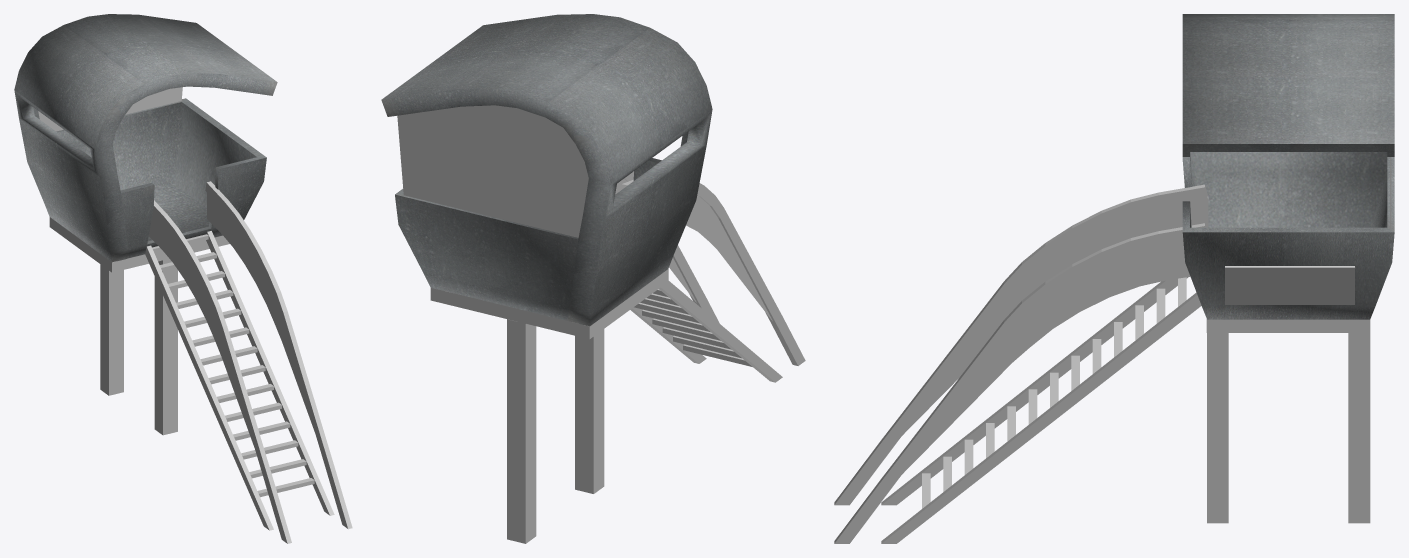
File: Cabin-F.fbx
3 renders of one model, left to right at view 1: azimuth 30°, elevation 25°; view 2: azimuth 150°, elevation 25°; view 3: azimuth 270°, elevation 25°, orthographic. The views are drawn at different scales.
Visible parts, largest first — view 1: Cabin-F; view 2: Cabin-F; view 3: Cabin-F.
Boxes of the visible parts, x1,y1,x2,y2 form: Cabin-F: (14,14,352,543); Cabin-F: (381,14,805,543); Cabin-F: (834,14,1394,543).
Bounding box in the file's own units: 351 × 675 × 714.
